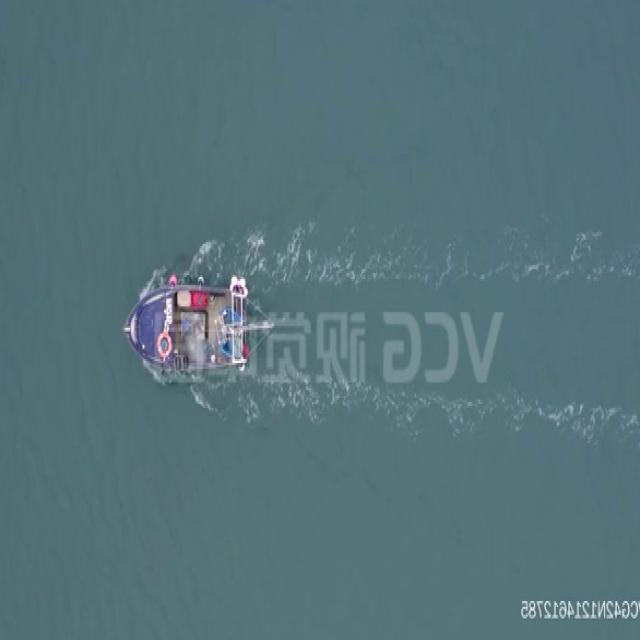houseboat: (124, 273, 269, 372)
